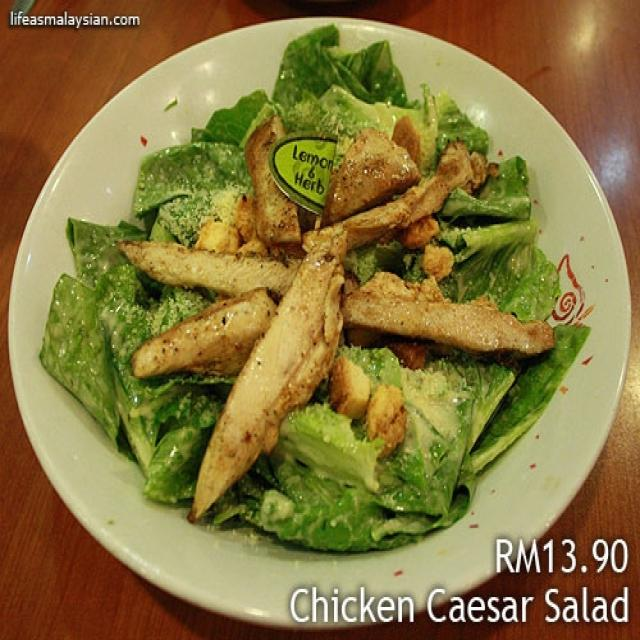蔬菜料理: (13, 23, 630, 607)
